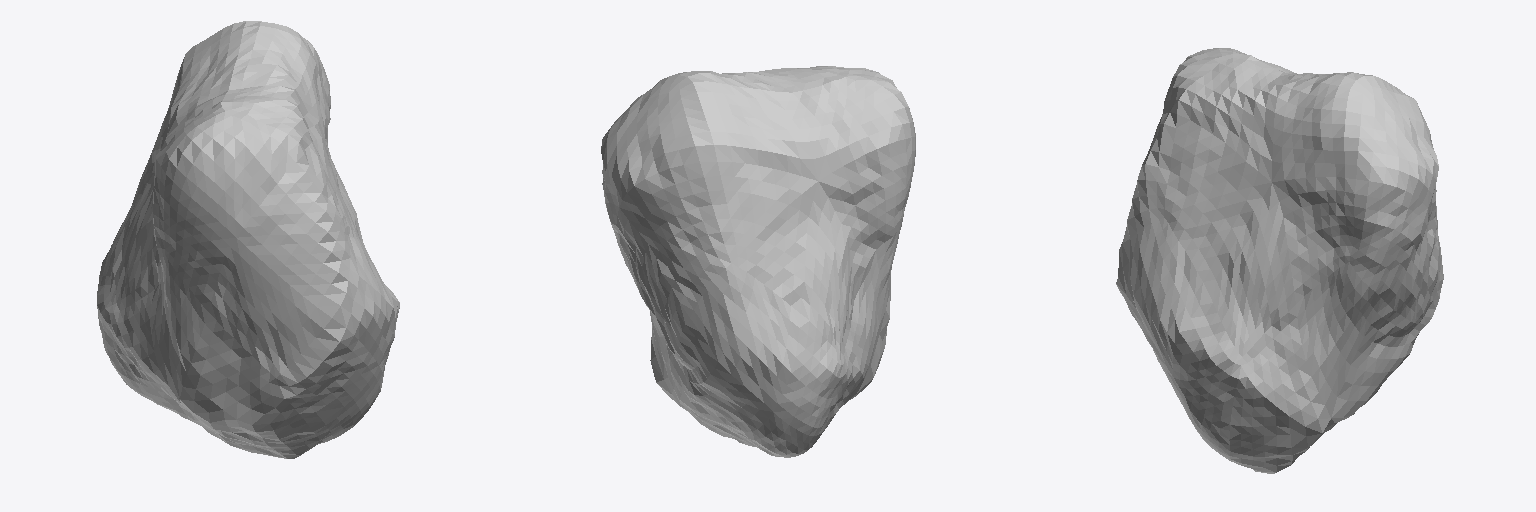
File: rock1.obj
3 views of the same model, side by side, from view 1: azimuth 30°, elevation 25°; view 2: azimuth 150°, elevation 25°; view 3: azimuth 270°, elevation 25° (orthographic).
Parts seen in each view (by area): view 1: rock.003; view 2: rock.003; view 3: rock.003.
Part boxes in pixels (x1,y1,x2,y2): rock.003: (97,21,399,458); rock.003: (601,66,915,457); rock.003: (1116,48,1443,473).
Size of the model in its own units: 0.729 by 1.19 by 0.8923.